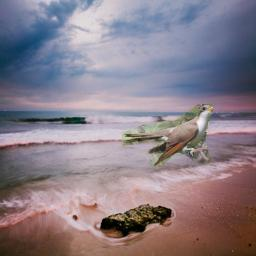Cuckoo: (122, 104, 213, 166)
